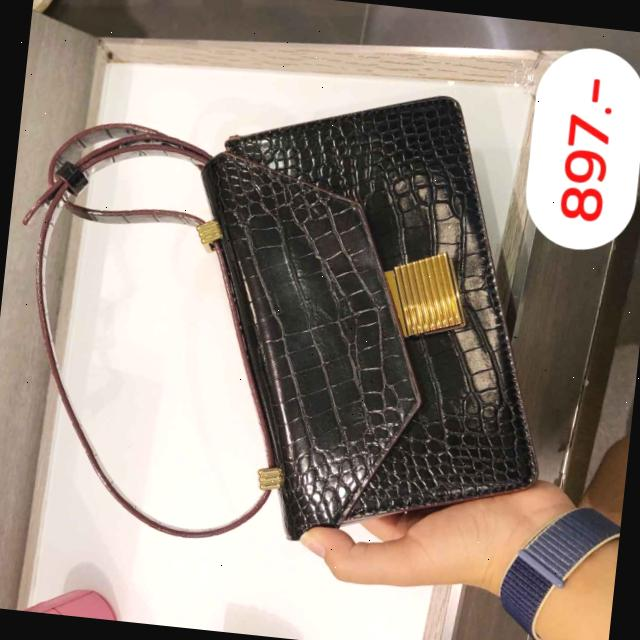Handbag: (168, 74, 562, 552)
